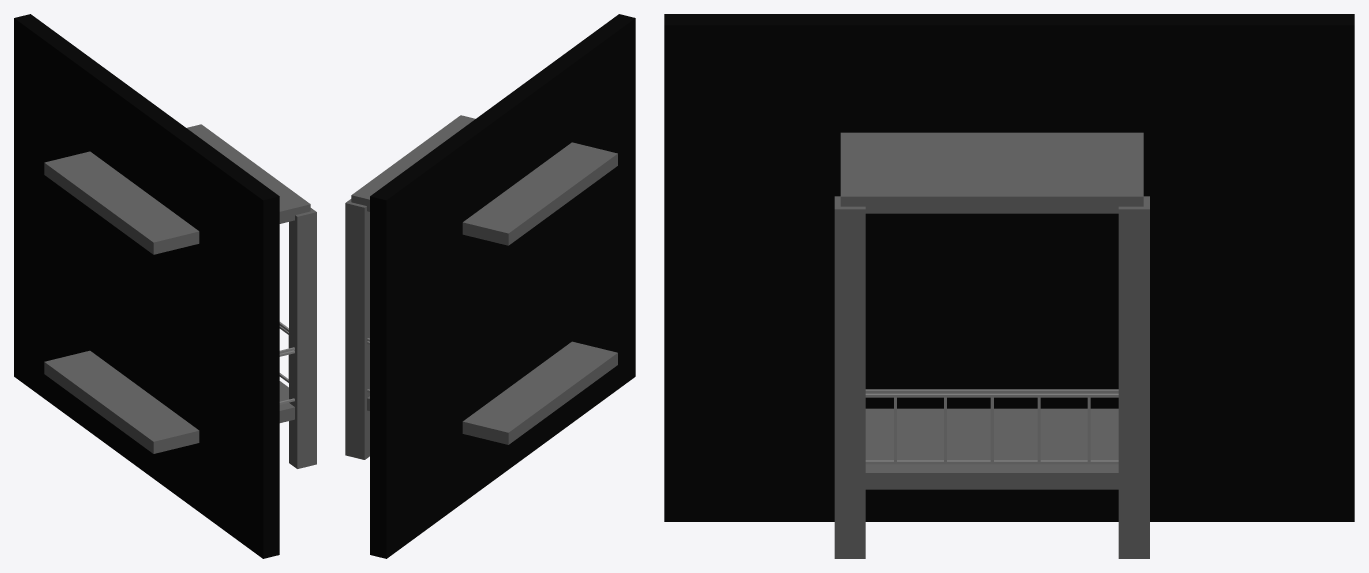
The model's file is map.obj.
The picture shows the model from 3 angles, left to right: view 1: azimuth 30°, elevation 25°; view 2: azimuth 150°, elevation 25°; view 3: azimuth 270°, elevation 25°; orthographic projection. The views are drawn at different scales.
Visible parts, largest first — view 1: entity0_brush1, entity0_brush4, entity0_brush0, entity0_brush2; view 2: entity0_brush1, entity0_brush4, entity0_brush0, entity0_brush3; view 3: entity0_brush1, entity0_brush4, entity0_brush0, entity0_brush2, entity0_brush3, entity1_brush0, entity1_brush3, entity1_brush7.
Boxes of the visible parts, x1,y1,x2,y2 form: entity0_brush1: (14,14,279,558); entity0_brush4: (44,124,310,254); entity0_brush0: (44,350,294,453); entity0_brush2: (289,208,316,468); entity0_brush1: (370,14,635,558); entity0_brush4: (351,115,617,245); entity0_brush0: (367,341,617,444); entity0_brush3: (345,199,369,459); entity0_brush1: (664,14,1354,521); entity0_brush4: (840,132,1143,213); entity0_brush0: (865,408,1118,489); entity0_brush2: (834,196,865,558); entity0_brush3: (1118,196,1149,558); entity1_brush0: (865,389,1118,393); entity1_brush3: (865,393,1118,397); entity1_brush7: (865,460,1118,464).
Size of the model in its own units: 330 by 702 by 884.
